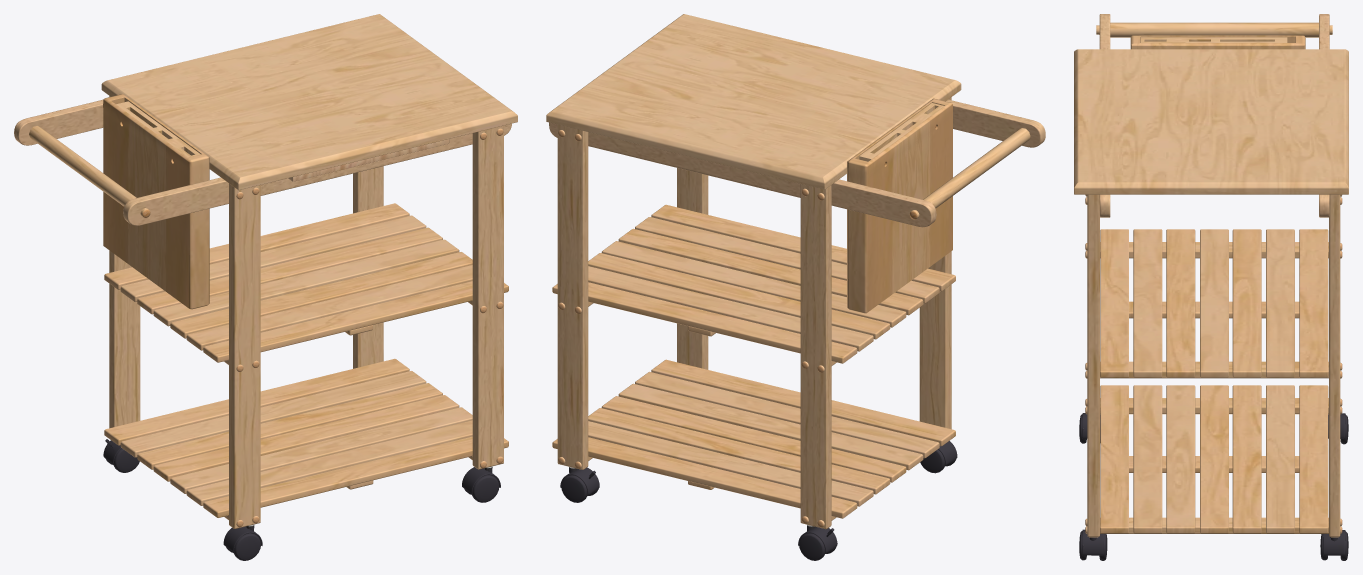
File: abo-B07HJ27HHW.glb
The picture shows the model from 3 angles, left to right: view 1: azimuth 30°, elevation 25°; view 2: azimuth 150°, elevation 25°; view 3: azimuth 270°, elevation 25°; orthographic projection.
Bounding box in the file's own units: 0.843 × 0.816 × 0.52.
1 material, 1 textured.
